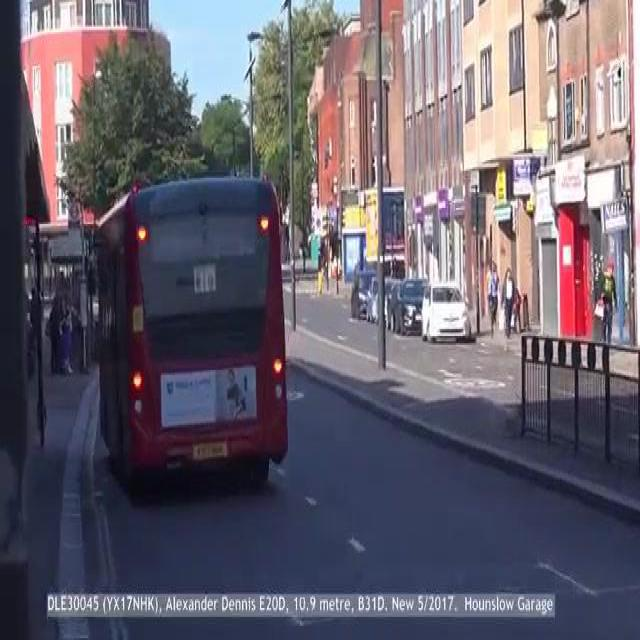motorcycle: (106, 176, 280, 489)
